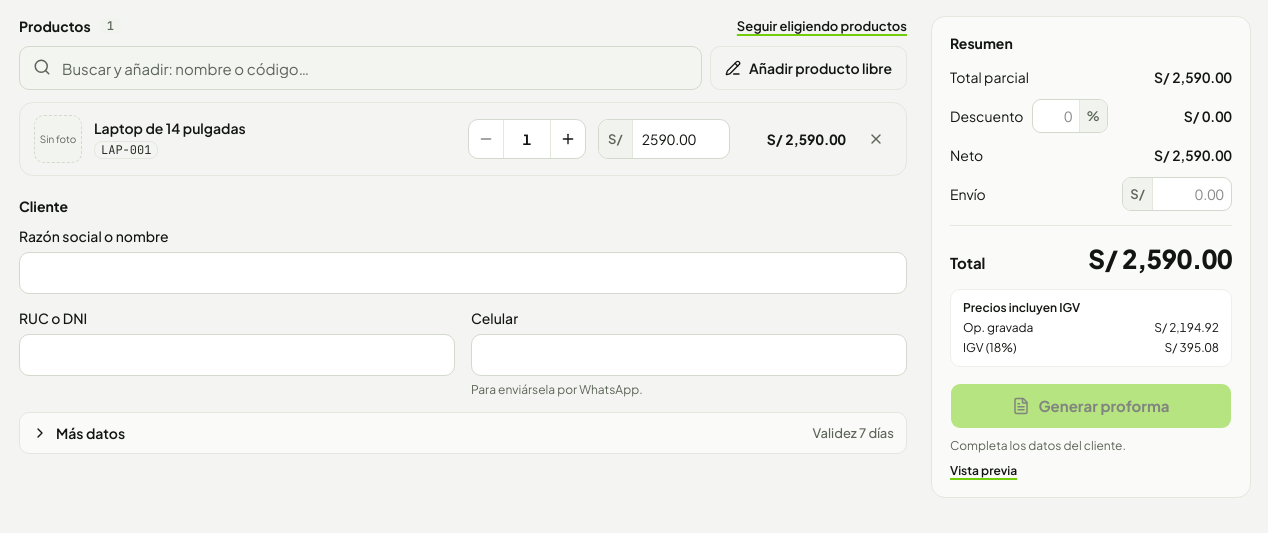
Scenario: ProformaEditor › si SUNAT no responde, deja escribir a mano
The image size is (1268, 533).
Type "20000000001" into the field labelled "RUC o DNI" at (237, 355), box [19,334,455,376]
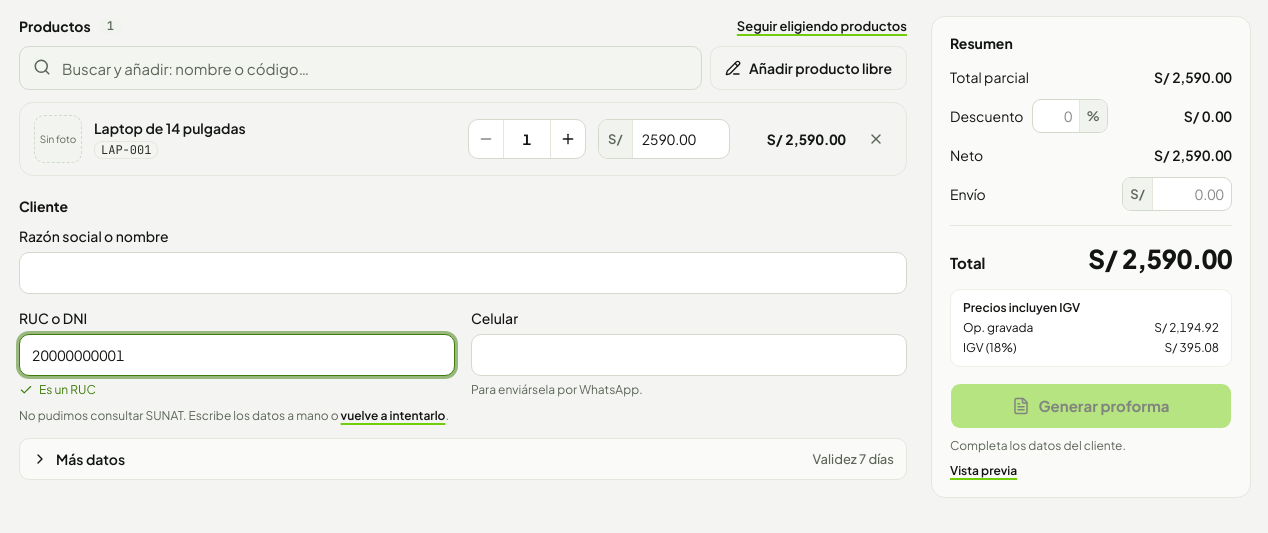
Now the text "No pudimos consultar SUNAT. Escribe los datos a mano o vuelve a intentarlo ." is shown, box [19,408,449,424]
Type "Cliente escrito a mano" into the field labelled "Razón social o nombre" at (463, 273), box [19,252,907,294]
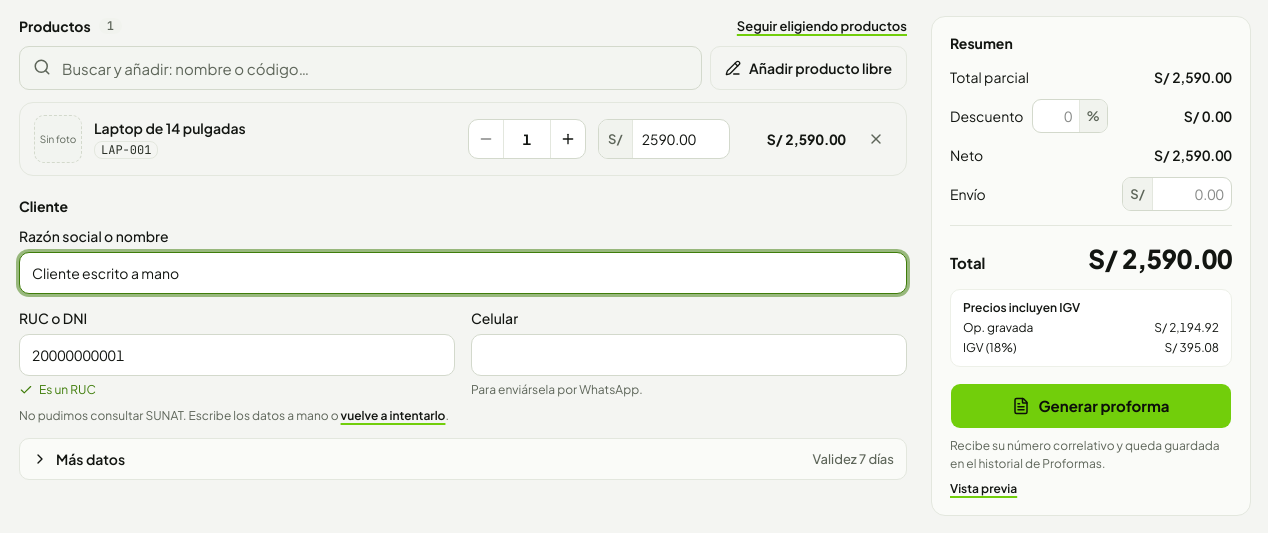
Now the button "Generar proforma" is enabled, box [950,383,1232,429]
